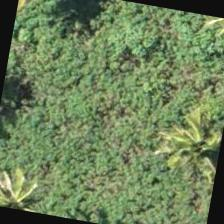Kelapa_Sawit: (146, 97, 223, 198), (0, 141, 71, 217)
